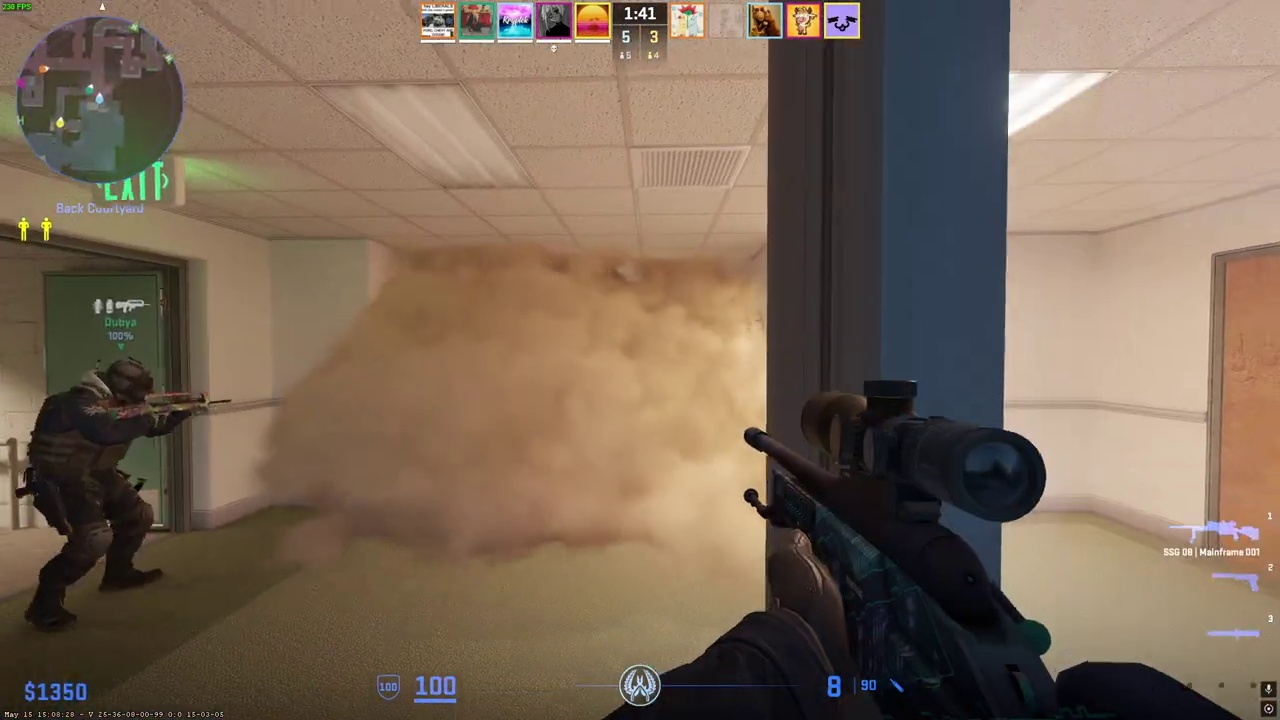CT: (24, 356, 168, 633)
